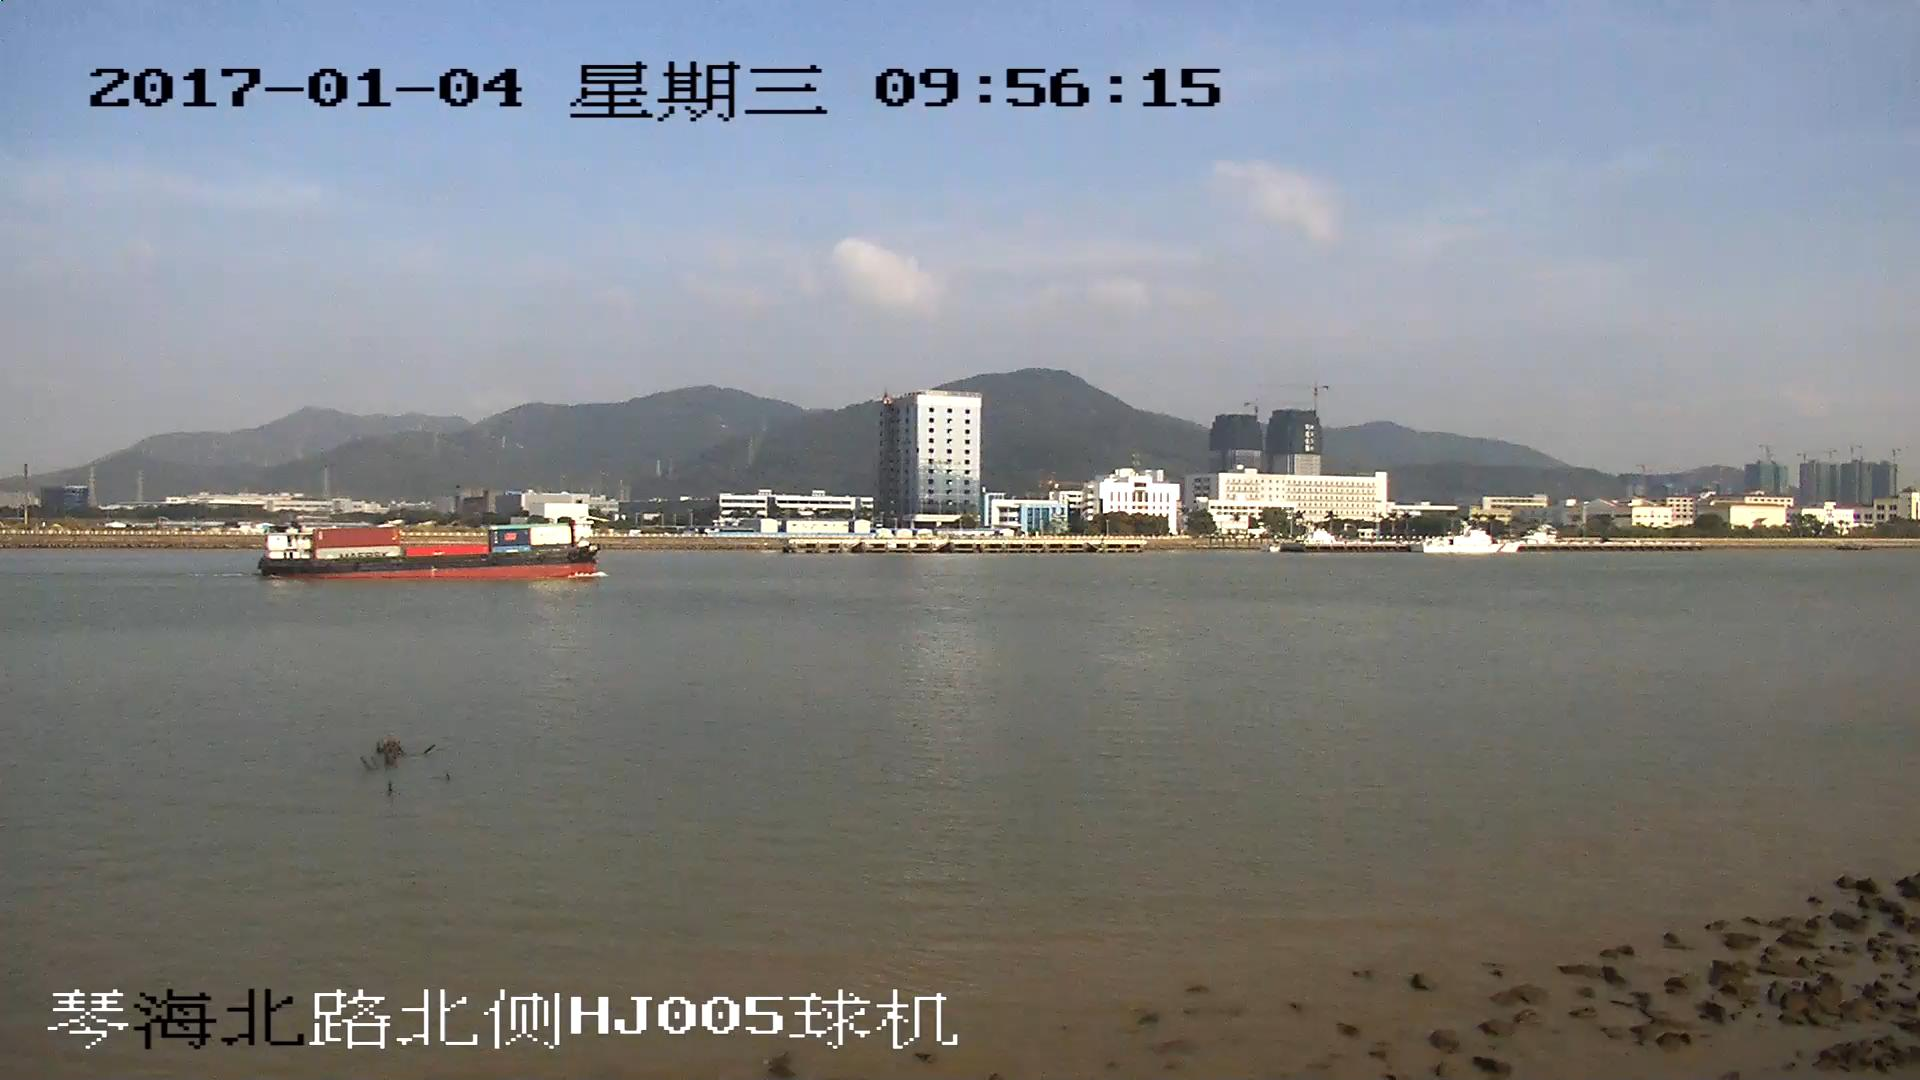container ship: (258, 520, 595, 583)
